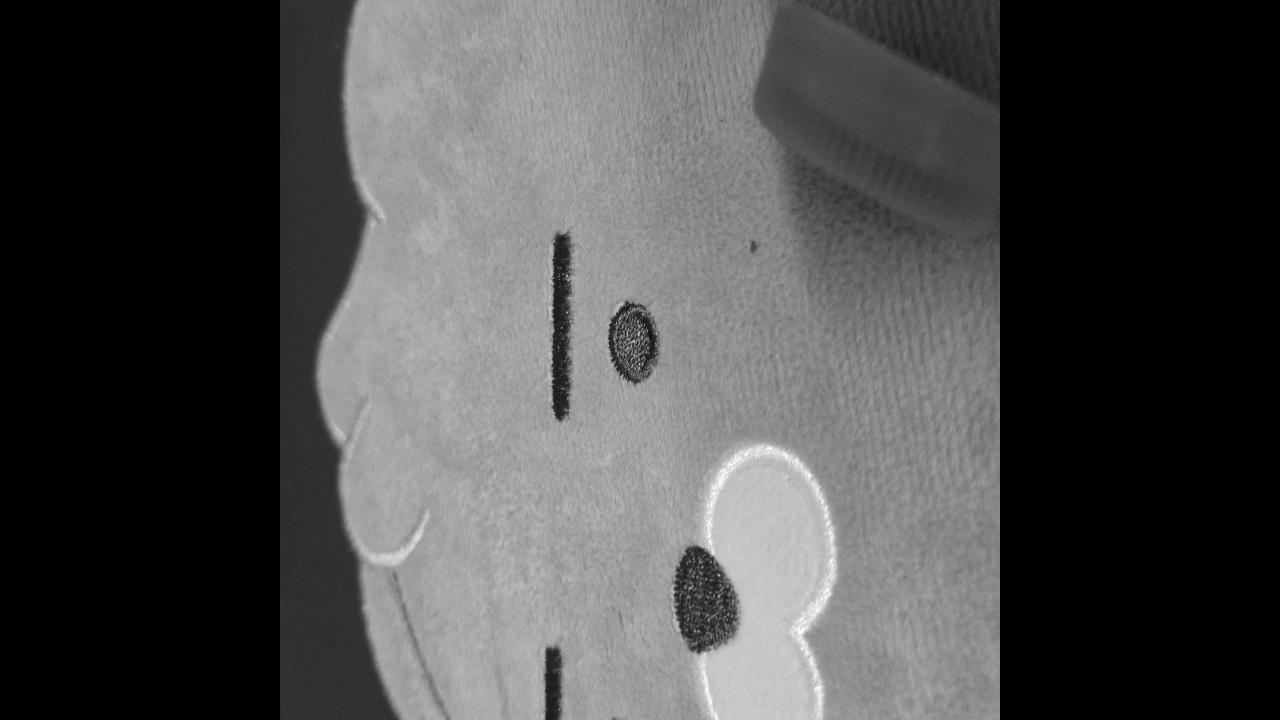bottle_cap: (751, 12, 1000, 226)
